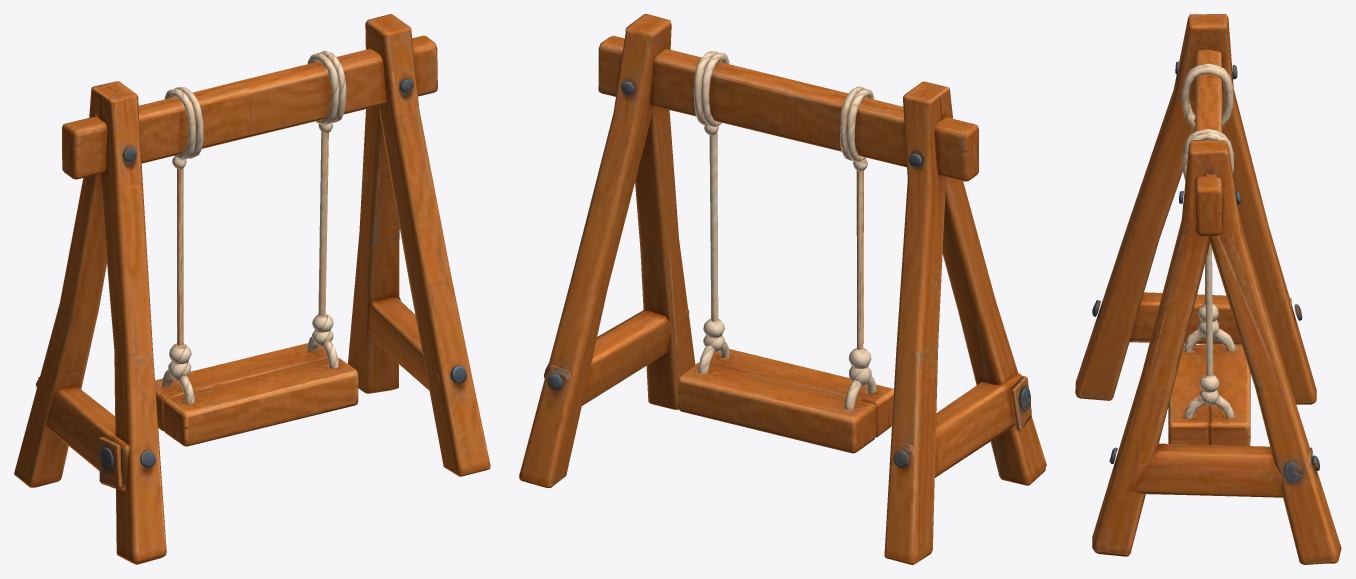
The model's file is swing.glb.
The picture shows the model from 3 angles, left to right: view 1: azimuth 30°, elevation 25°; view 2: azimuth 150°, elevation 25°; view 3: azimuth 270°, elevation 25°; orthographic projection. The views are drawn at different scales.
Bounding box in the file's own units: 0.9842 × 1 × 0.6168.
1 material, 1 textured.
